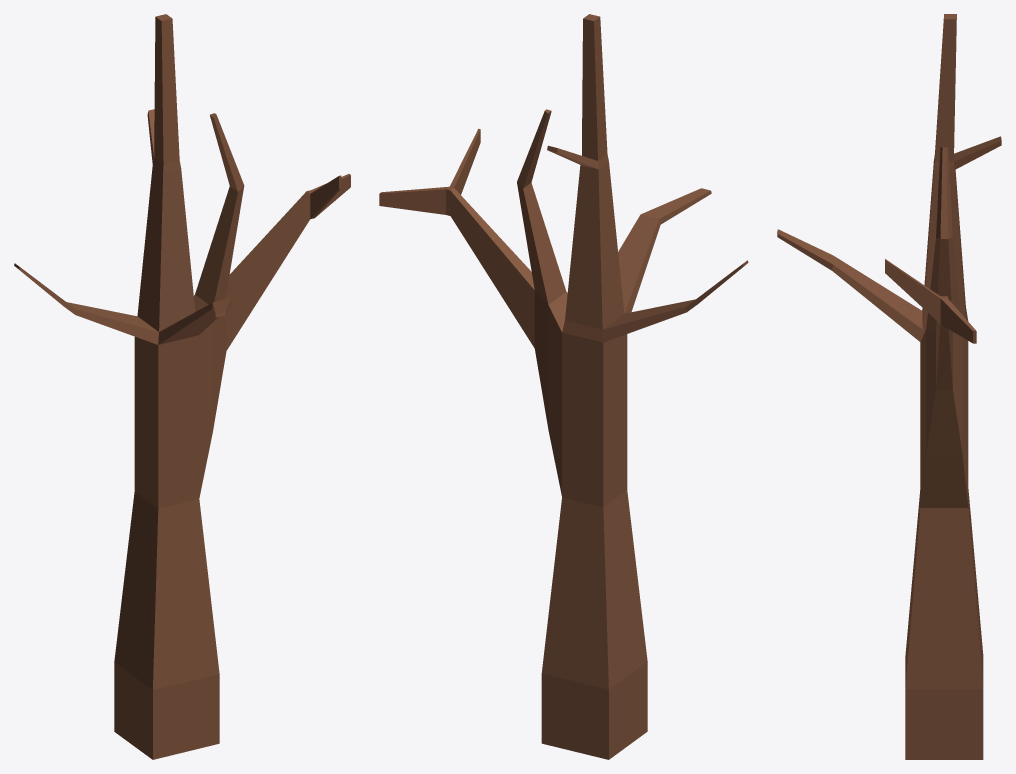
Rendered from Tree6.fbx.
3 views of the same model, side by side, from view 1: azimuth 30°, elevation 25°; view 2: azimuth 150°, elevation 25°; view 3: azimuth 270°, elevation 25° (orthographic).
Parts seen in each view (by area): view 1: Cube.005; view 2: Cube.005; view 3: Cube.005.
Boxes of the visible parts, <box> form: Cube.005: <box>14,14,350,759</box>; Cube.005: <box>379,14,748,759</box>; Cube.005: <box>777,14,1001,759</box>.
Bounding box in the file's own units: 1044 × 2056 × 575.
